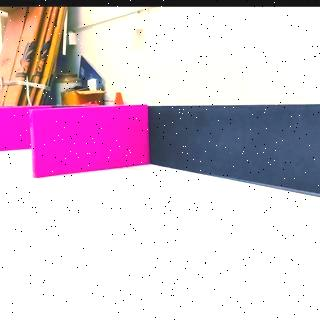xparking: (33, 109, 147, 168)
